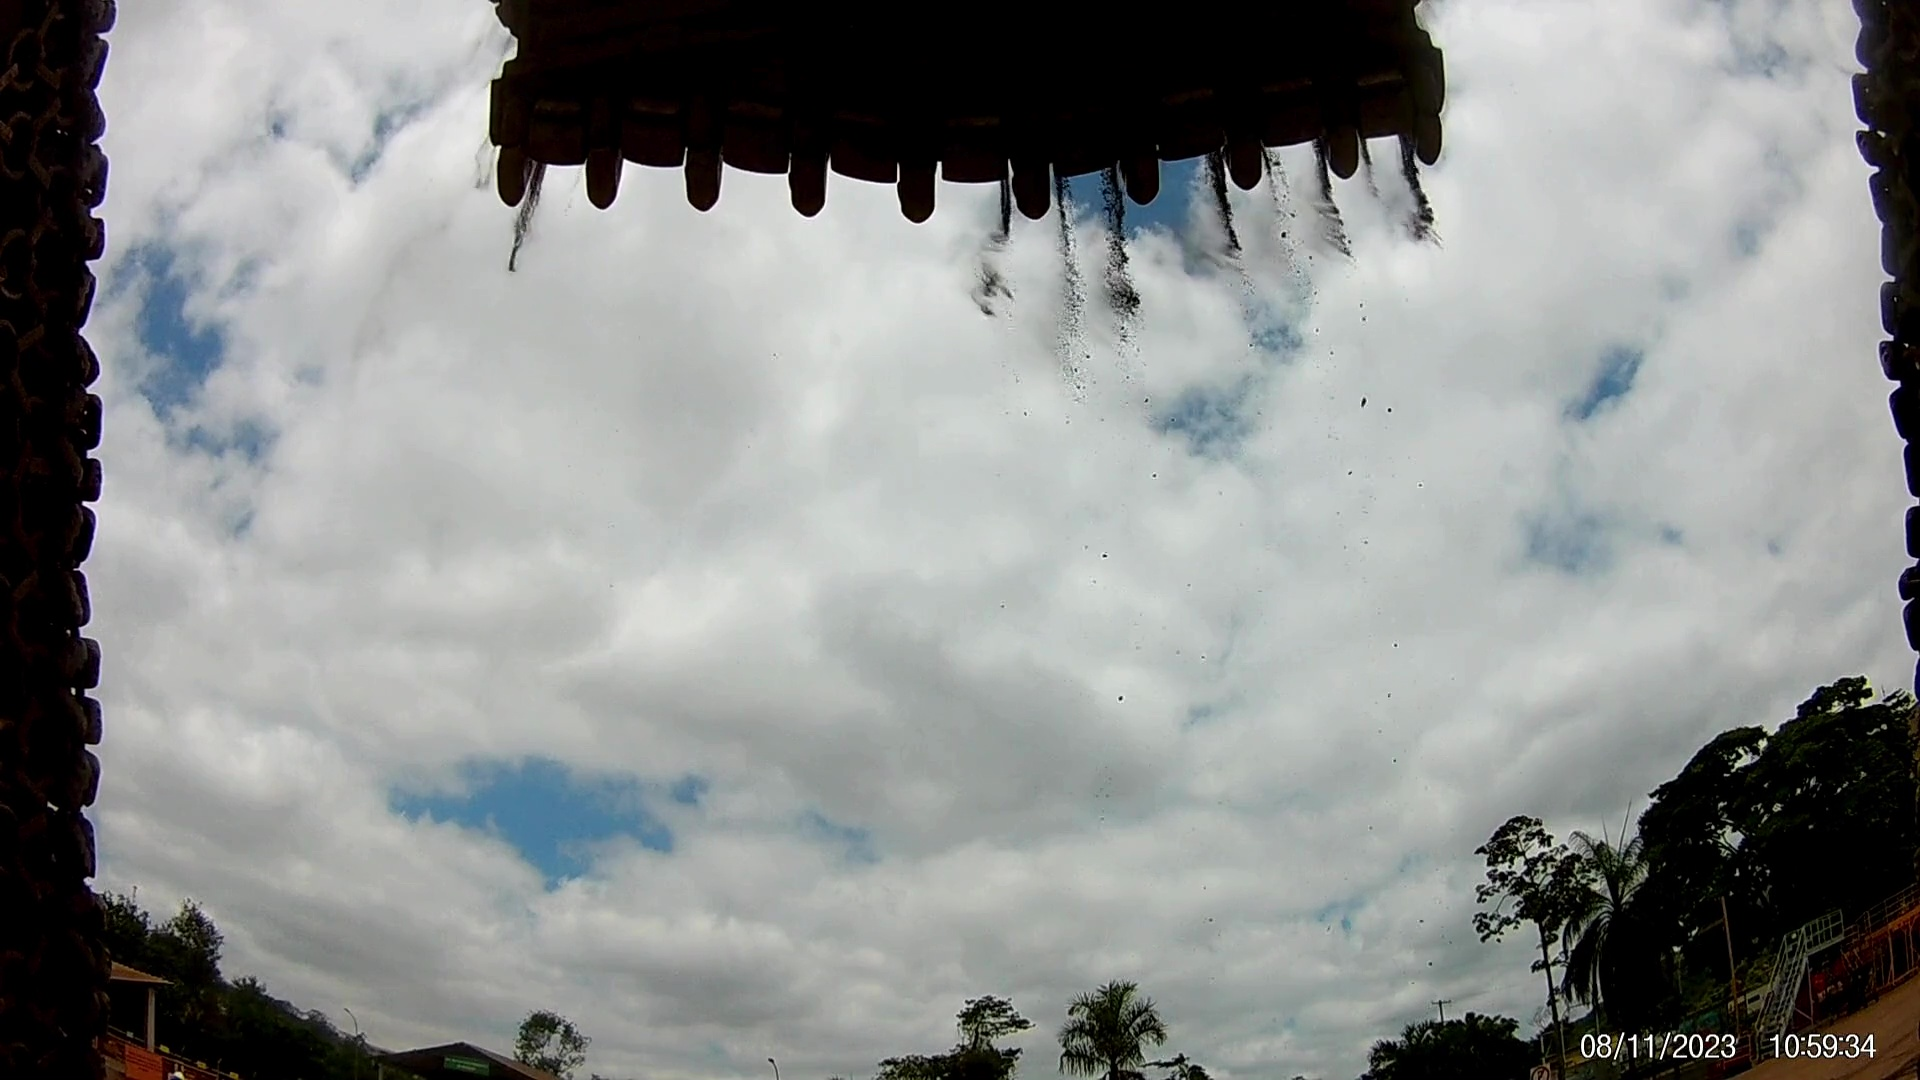FPS: (882, 156, 944, 248), (1292, 117, 1382, 181), (1116, 131, 1180, 203), (994, 157, 1056, 229), (777, 148, 829, 225), (1404, 105, 1456, 181), (676, 138, 725, 215), (1230, 123, 1270, 203), (580, 153, 622, 222), (492, 169, 537, 218)
